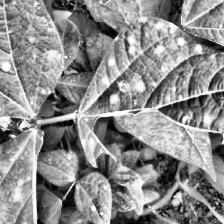Bean Rust: (71, 18, 224, 170), (0, 0, 67, 117), (0, 128, 68, 223), (91, 0, 172, 27), (181, 0, 224, 47)
